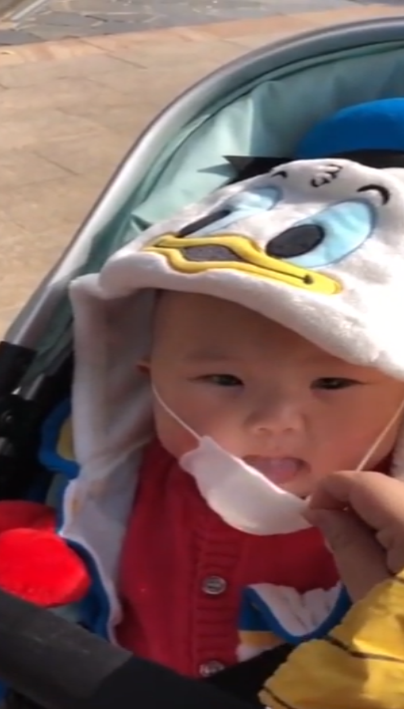mask_weared_incorrect: (126, 272, 404, 539)
